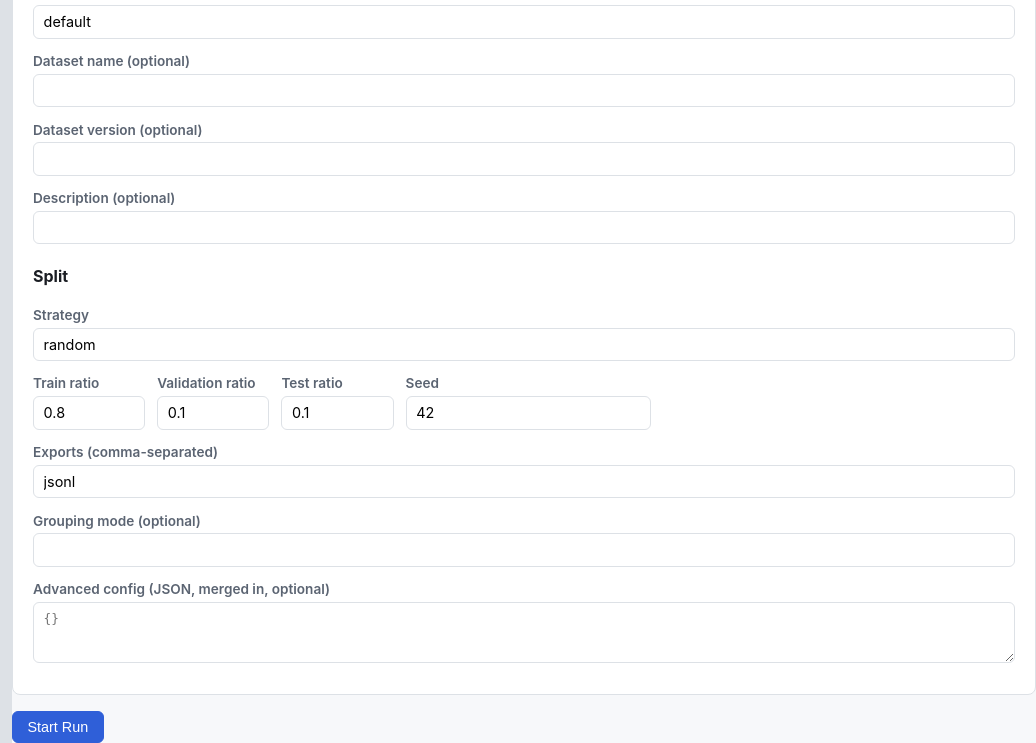
NewRun › blocks submission with a validation message when a stream has no file selected
This screenshot has width=1036, height=743.
(page scrolled)
Click the button "Start Run".
click(58, 727)  # box [12,711,104,742]
(page scrolled)
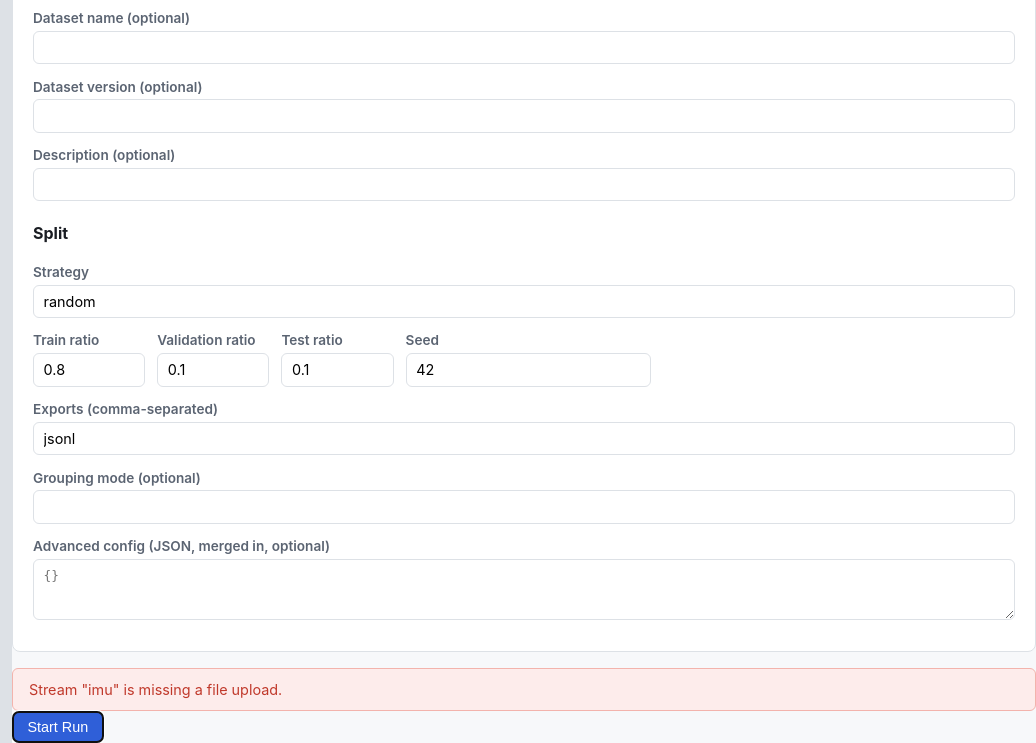
Expected: the text "Stream \"imu\" is missing a file upload." is shown, [12,668,1035,711]
